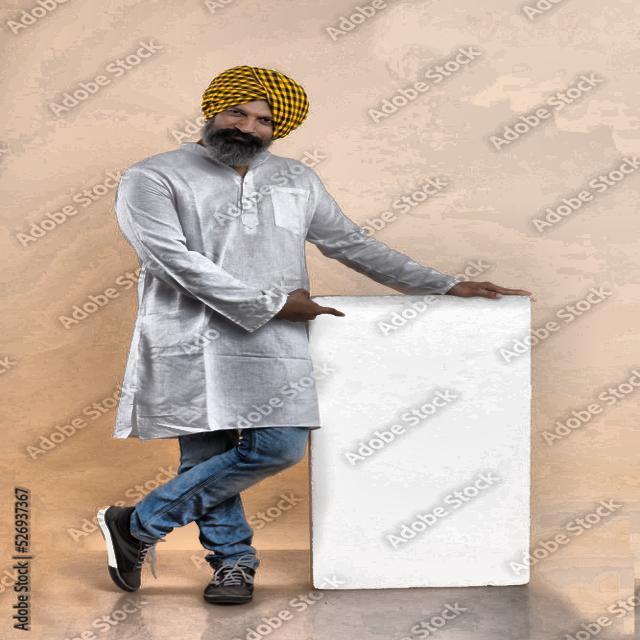Human: (90, 54, 428, 624)
